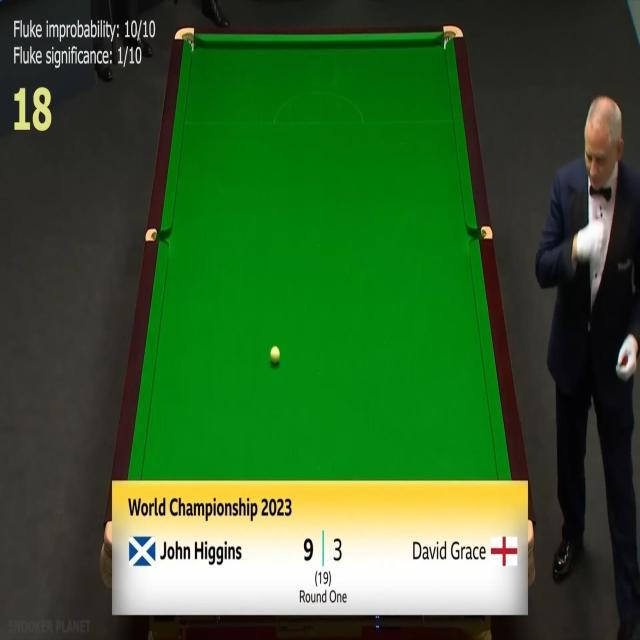Ball: (270, 347, 280, 364)
